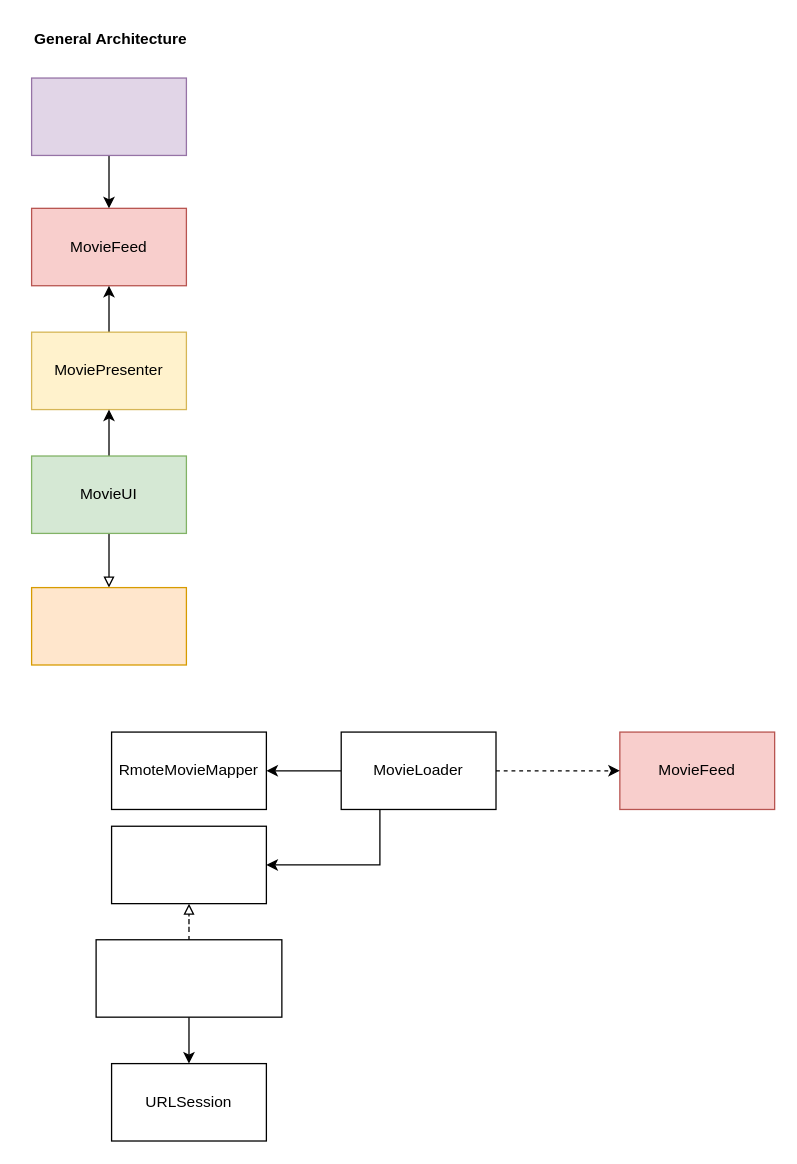
Image size: 797x1164. Some labels were removed from this diagram. The shapes that lost their labels are listed below. From the top down, each one's box as (x1, y1, x2, y2) in pixels, then its label:
(30, 77, 186, 155): Movie API
(30, 586, 186, 665): SwiftUI
(110, 825, 266, 904): <HTTPClient>
(95, 938, 282, 1017): URLSessionHTTPClient
